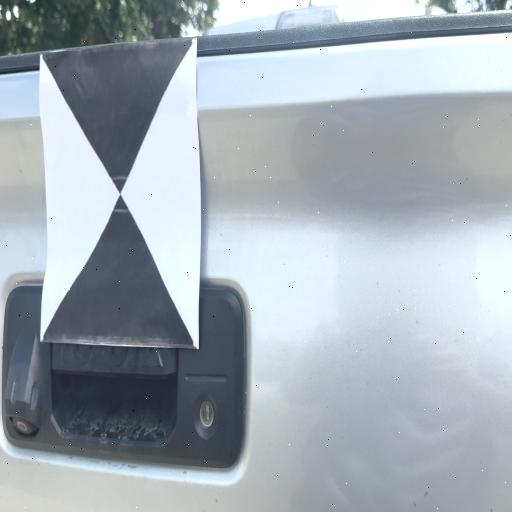target: (40, 54, 199, 350)
